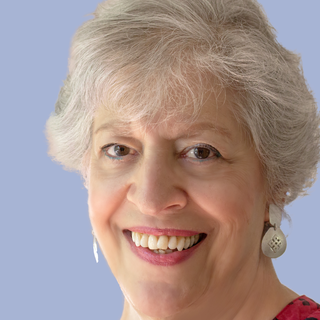eye: (177, 141, 227, 166), (94, 139, 141, 163)
